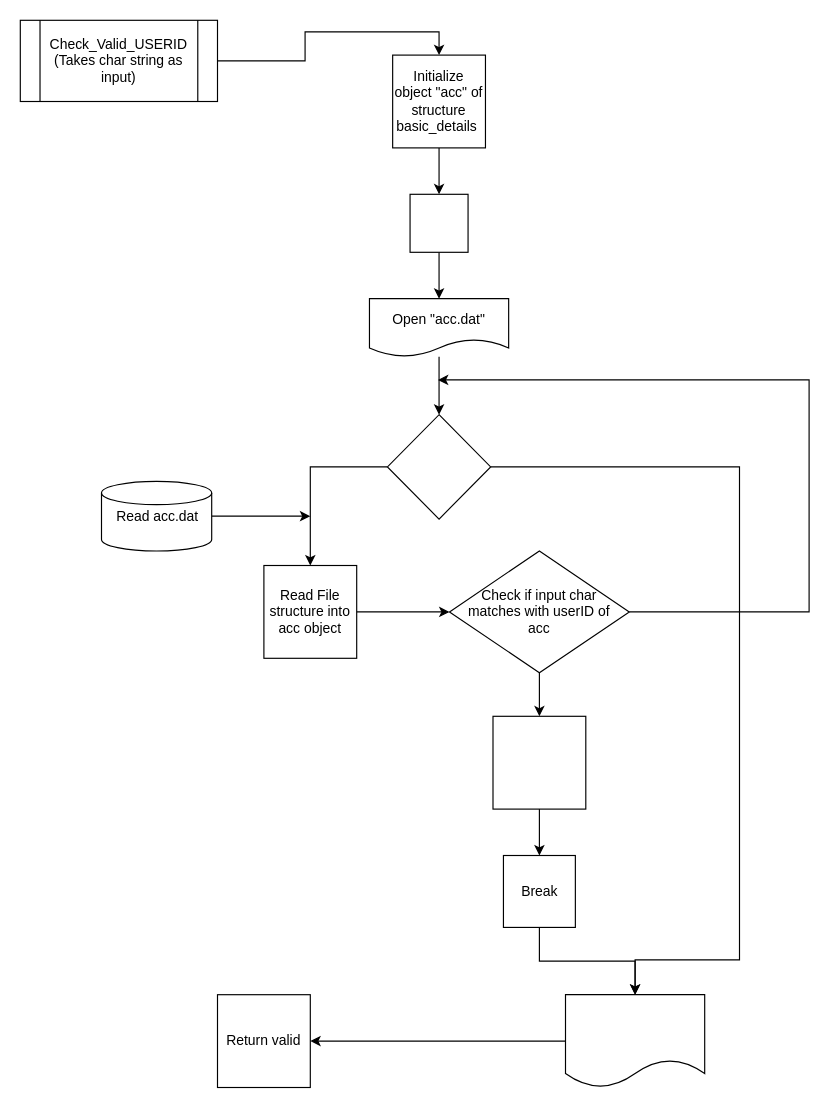
Some shapes in this 839 by 1108 pixel diagram are drawn without their labels. Each missing label, with the box of its shape:
check if end of file: (386, 414, 491, 519)
Close "acc.dat": (564, 994, 705, 1088)
Set Valid to false: (492, 715, 586, 809)
Set Valid to true: (409, 193, 468, 252)
